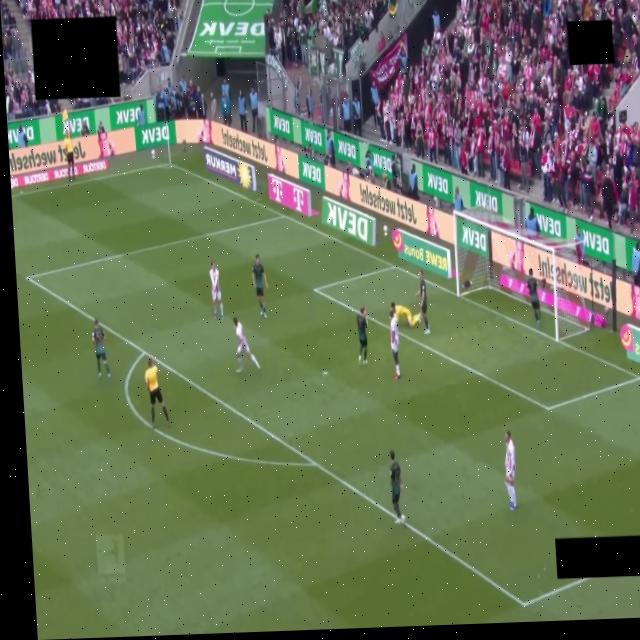player: (232, 317, 259, 372), (389, 450, 405, 524), (91, 320, 110, 379), (251, 254, 267, 318), (504, 430, 516, 510), (416, 270, 429, 334), (526, 269, 540, 326), (209, 261, 222, 320), (391, 302, 420, 327), (389, 308, 399, 378), (356, 306, 367, 364)
referee: (144, 358, 169, 428)
